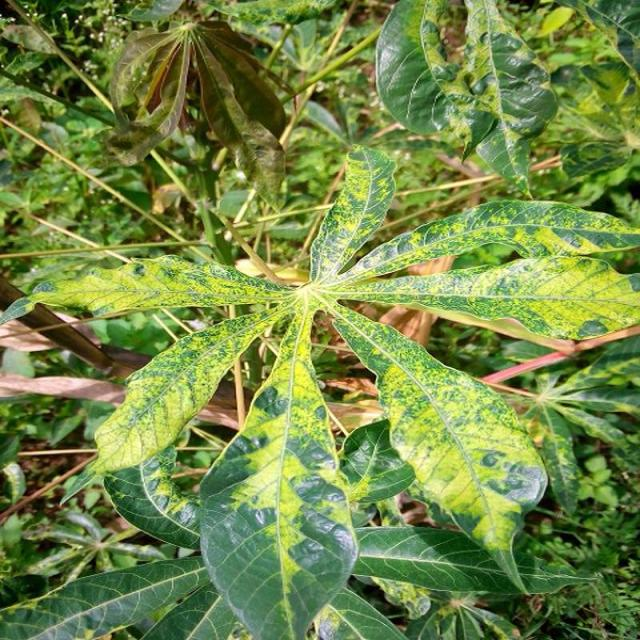cassava leaf: (2, 143, 639, 637), (332, 301, 550, 595), (198, 306, 361, 638)
